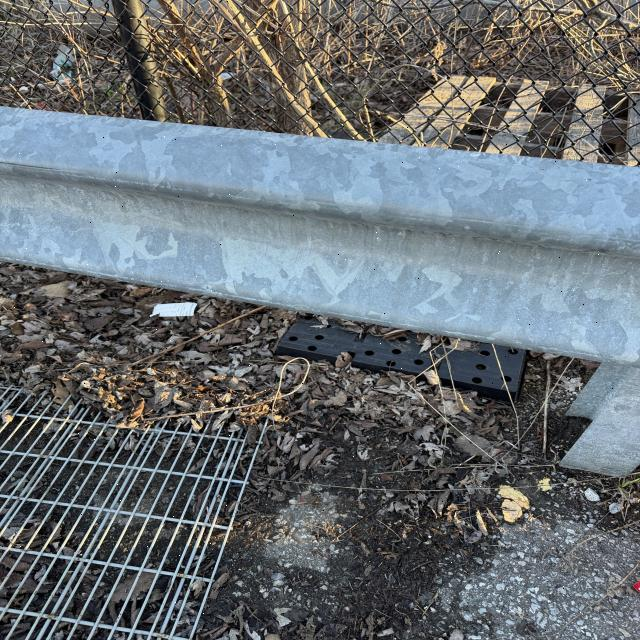Guard rail: (0, 123, 612, 330)
